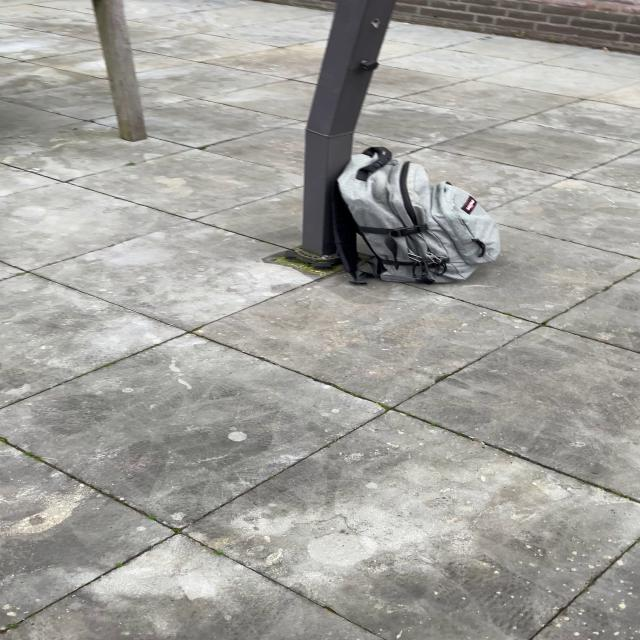backpack: (314, 144, 509, 290)
